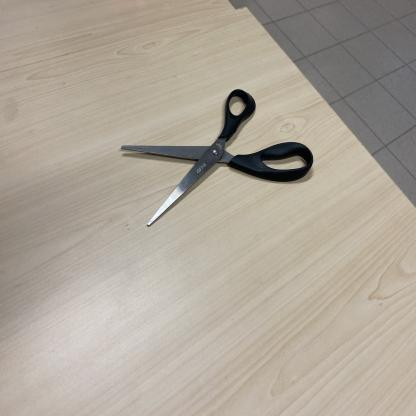scissors: (122, 86, 312, 230)
